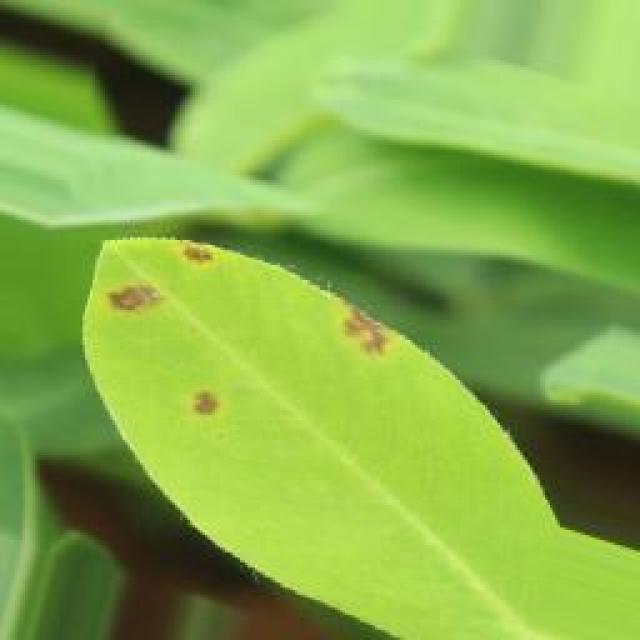Sigatoka: (316, 285, 396, 376), (82, 268, 194, 327), (158, 362, 240, 425), (160, 229, 232, 280)
